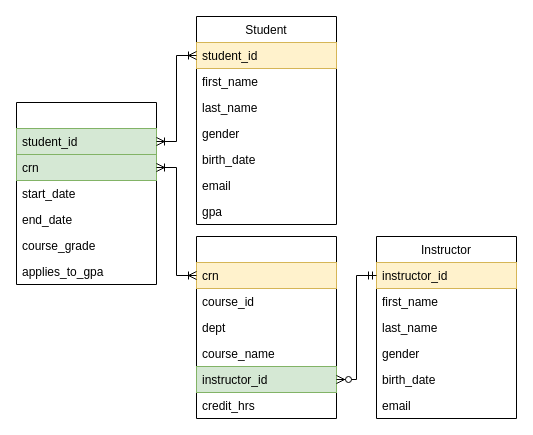
Image size: 533x435. Some labels were removed from this diagram. The box of each missing label's shape, as (x1, y1, x2, y2) in pixels:
Courses: (196, 236, 336, 418)
Student_Courses: (16, 102, 156, 284)
